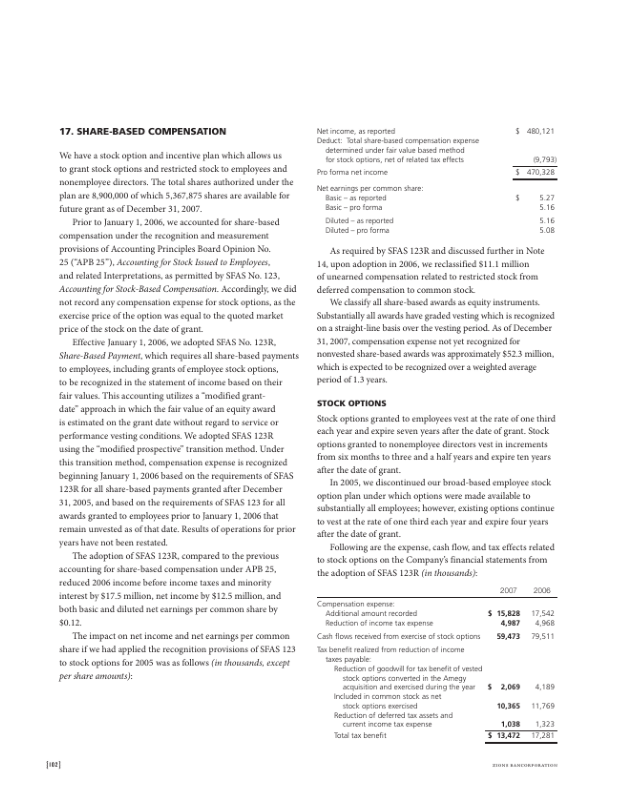table: (313, 585, 562, 748), (509, 153, 558, 241)
